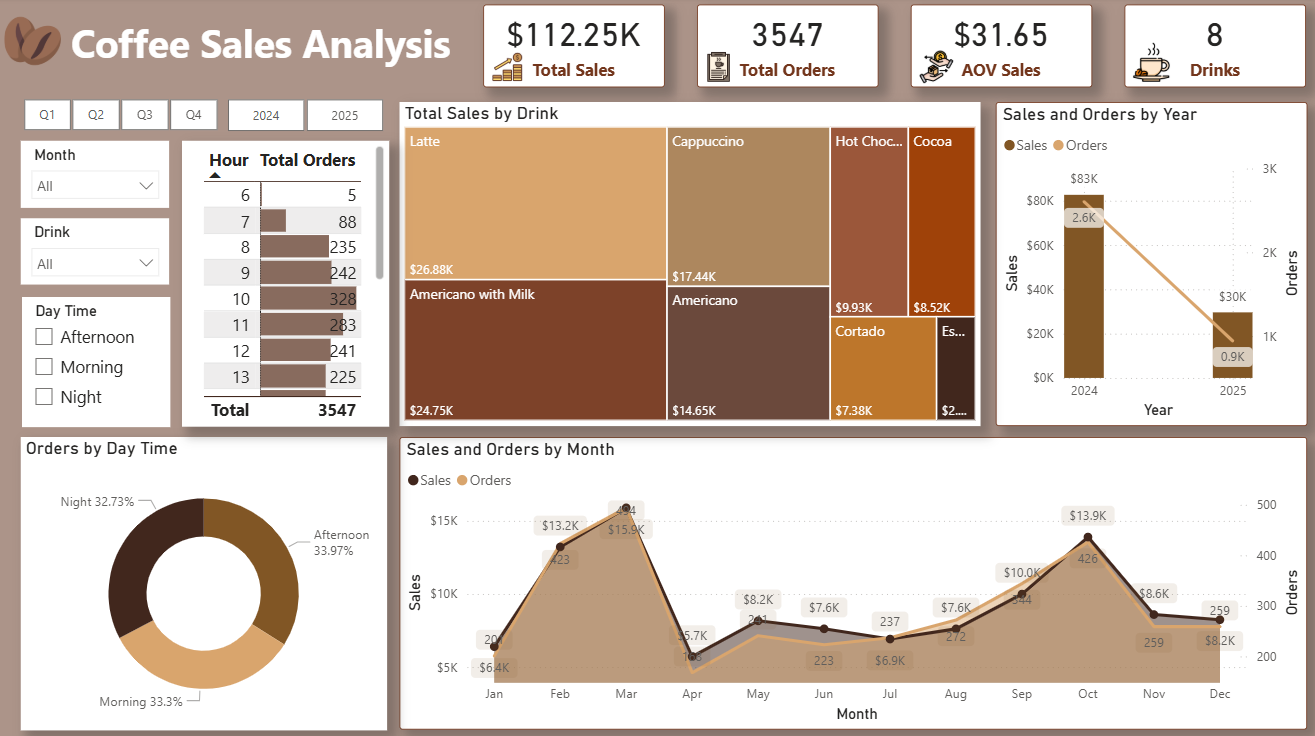

This screenshot's page, from the dashboard's own definition file:
{"tool":"powerbi","page":{"name":"Coffee Sales Analysis","canvas":[1280,720],"ordinal":0},"visuals":[{"type":"card","fields":{"Values":["DAXMeasures.Total Sales"]},"box":[468.9,7.2,174.9,80],"z":0},{"type":"card","fields":{"Values":["DAXMeasures.Total Orders"]},"box":[675.2,7.2,175,80],"z":1000},{"type":"card","fields":{"Values":["DAXMeasures.AOV Sales"]},"box":[881.6,7.2,175,80],"z":2000},{"type":"card","fields":{"Values":["DAXMeasures.DrinksCount"]},"box":[1088,7,175,80],"z":3000},{"type":"lineClusteredColumnComboChart","fields":{"Category":["Date.Year"],"Y":["DAXMeasures.Total Sales"],"Y2":["DAXMeasures.Total Orders"]},"box":[963.9,101.3,300.4,312.5],"z":4000},{"type":"areaChart","fields":{"Category":["CoffeeSales.Month Name"],"Y":["DAXMeasures.Total Sales"],"Y2":["DAXMeasures.Total Orders"]},"box":[388.5,424.7,875.9,282.3],"z":5000},{"type":"treemap","fields":{"Group":["CoffeeSales.Drink"],"Values":["DAXMeasures.Total Sales"]},"box":[388.5,101.3,561,312.5],"z":6000},{"type":"donutChart","fields":{"Category":["CoffeeSales.Day Time"],"Y":["DAXMeasures.Total Orders"]},"box":[22.9,424.7,353.5,283.5],"z":7000},{"type":"tableEx","fields":{"Values":["CoffeeSales.Hour","DAXMeasures.Total Orders"]},"box":[178.6,138.7,200.3,276.3],"z":8000},{"type":"slicer","fields":{"Values":["Date.Year"]},"box":[196.6,91.9,200.3,44.6],"z":9000},{"type":"slicer","fields":{"Values":["CoffeeSales.Drink"]},"box":[22.9,213.5,143.6,63.9],"z":10000},{"type":"slicer","fields":{"Values":["Date.Quarter"]},"box":[0,91.9,236.5,43.4],"z":11000},{"type":"slicer","fields":{"Values":["CoffeeSales.Month Name"]},"box":[22.9,138.7,143.6,65.1],"z":12000},{"type":"slicer","fields":{"Values":["CoffeeSales.Day Time"]},"box":[24.1,289.5,143.6,125.5],"z":13000},{"type":"textbox","box":[66.4,14.5,378.8,63.9],"z":14000},{"type":"image","box":[2.4,7.2,63.9,70],"z":15000},{"type":"image","box":[469.3,48.3,45.8,38.6],"z":16000},{"type":"image","box":[675.6,48.3,42.2,38.6],"z":17000},{"type":"image","box":[879.5,45.8,54.3,43.4],"z":18000},{"type":"image","box":[1090.6,38.6,47.1,48.3],"z":19000}]}

Visuals, with their boxes in screenshot pixels (x1, y1, x2, y2), scaled from the page's 1280x720 canvas onto the 1315x736 screenshot:
card - DAXMeasures.Total Sales: box(482, 7, 661, 89)
card - DAXMeasures.Total Orders: box(694, 7, 873, 89)
card - DAXMeasures.AOV Sales: box(906, 7, 1085, 89)
card - DAXMeasures.DrinksCount: box(1118, 7, 1298, 89)
lineClusteredColumnComboChart - Date.Year x DAXMeasures.Total Sales: box(990, 104, 1299, 423)
areaChart - CoffeeSales.Month Name x DAXMeasures.Total Sales: box(399, 434, 1299, 723)
treemap - CoffeeSales.Drink x DAXMeasures.Total Sales: box(399, 104, 975, 423)
donutChart - CoffeeSales.Day Time x DAXMeasures.Total Orders: box(24, 434, 387, 724)
tableEx - CoffeeSales.Hour x DAXMeasures.Total Orders: box(183, 142, 389, 424)
slicer - Date.Year: box(202, 94, 408, 140)
slicer - CoffeeSales.Drink: box(24, 218, 171, 284)
slicer - Date.Quarter: box(0, 94, 243, 138)
slicer - CoffeeSales.Month Name: box(24, 142, 171, 208)
slicer - CoffeeSales.Day Time: box(25, 296, 172, 424)
textbox: box(68, 15, 457, 80)
image: box(2, 7, 68, 79)
image: box(482, 49, 529, 89)
image: box(694, 49, 737, 89)
image: box(904, 47, 959, 91)
image: box(1120, 39, 1169, 89)
